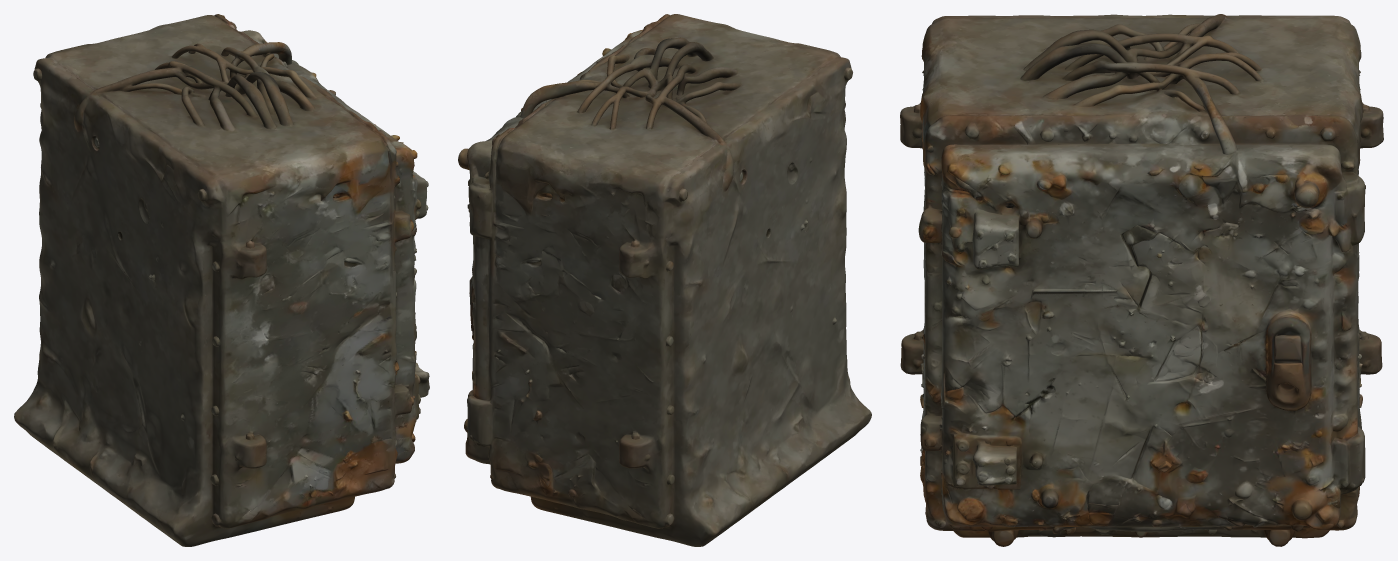
Rendered from decor_box.glb.
3 views of the same model, side by side, from view 1: azimuth 30°, elevation 25°; view 2: azimuth 150°, elevation 25°; view 3: azimuth 270°, elevation 25° (orthographic). The views are drawn at different scales.
Parts seen in each view (by area): view 1: tripo_node_837fea4d-8b05-42ab-8449-9cc1804db686; view 2: tripo_node_837fea4d-8b05-42ab-8449-9cc1804db686; view 3: tripo_node_837fea4d-8b05-42ab-8449-9cc1804db686.
Part boxes in pixels (box(x1,y1,x2,y2)): tripo_node_837fea4d-8b05-42ab-8449-9cc1804db686: box(14, 14, 429, 546); tripo_node_837fea4d-8b05-42ab-8449-9cc1804db686: box(458, 14, 871, 546); tripo_node_837fea4d-8b05-42ab-8449-9cc1804db686: box(900, 14, 1383, 546).
Size of the model in its own units: 0.6858 by 0.9794 by 0.9005.
Materials: 1 (1 with a texture image).
